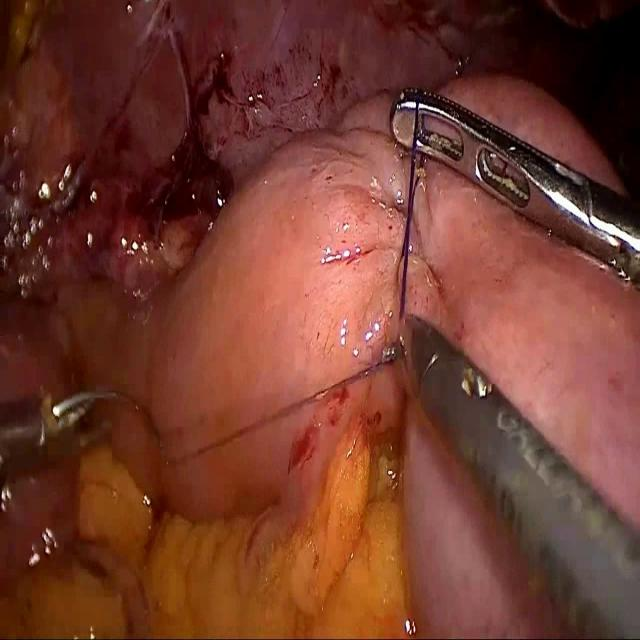surgical-tool: (400, 309, 640, 639), (388, 88, 640, 292), (0, 388, 162, 484)
